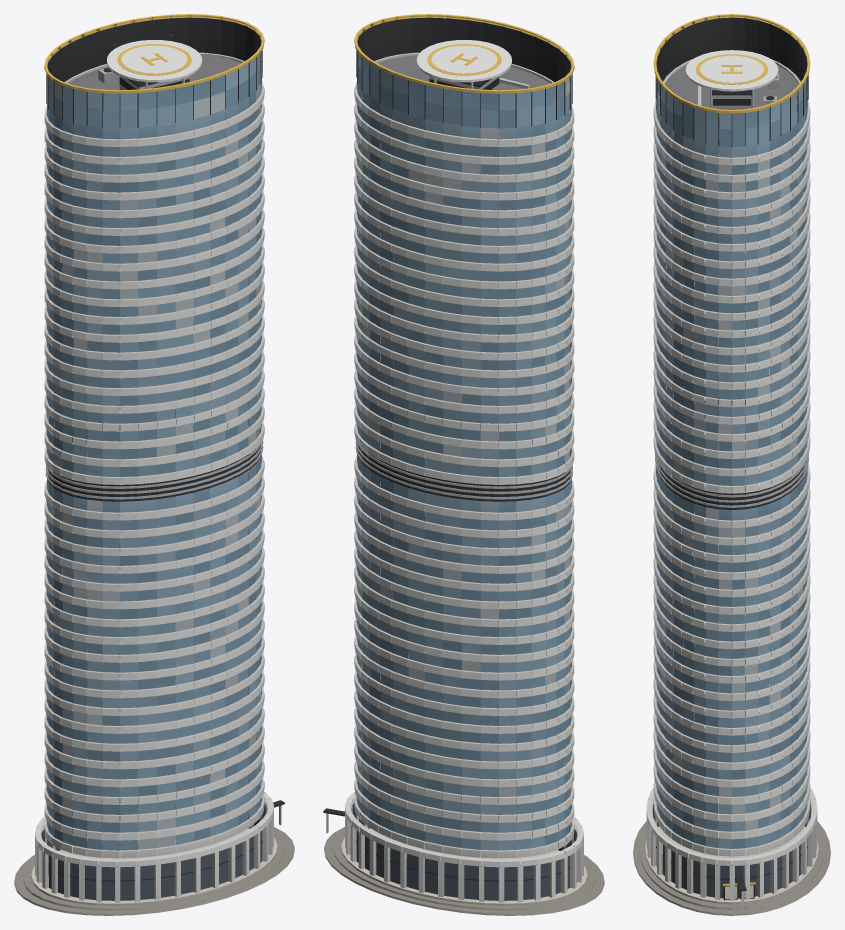
3 views of the same model, side by side, from view 1: azimuth 30°, elevation 25°; view 2: azimuth 150°, elevation 25°; view 3: azimuth 270°, elevation 25° (orthographic). The views are drawn at different scales.
Parts seen in each view (by area): view 1: t1; view 2: t1; view 3: t1.
Part boxes in pixels (bbox=[...]): t1: bbox=[14, 14, 294, 915]; t1: bbox=[323, 14, 604, 915]; t1: bbox=[633, 14, 830, 915].
Size of the model in its own units: 60.88 by 179 by 40.47.
